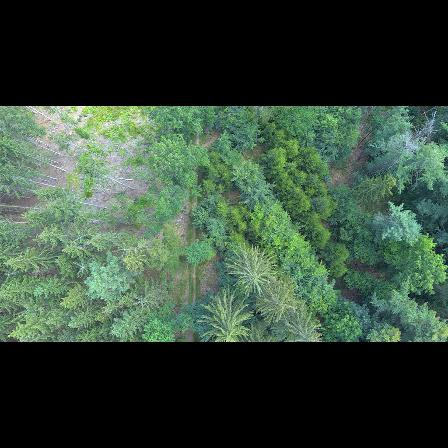Dead: (371, 115, 443, 161)
Sick: (130, 291, 158, 313), (71, 257, 92, 277)
